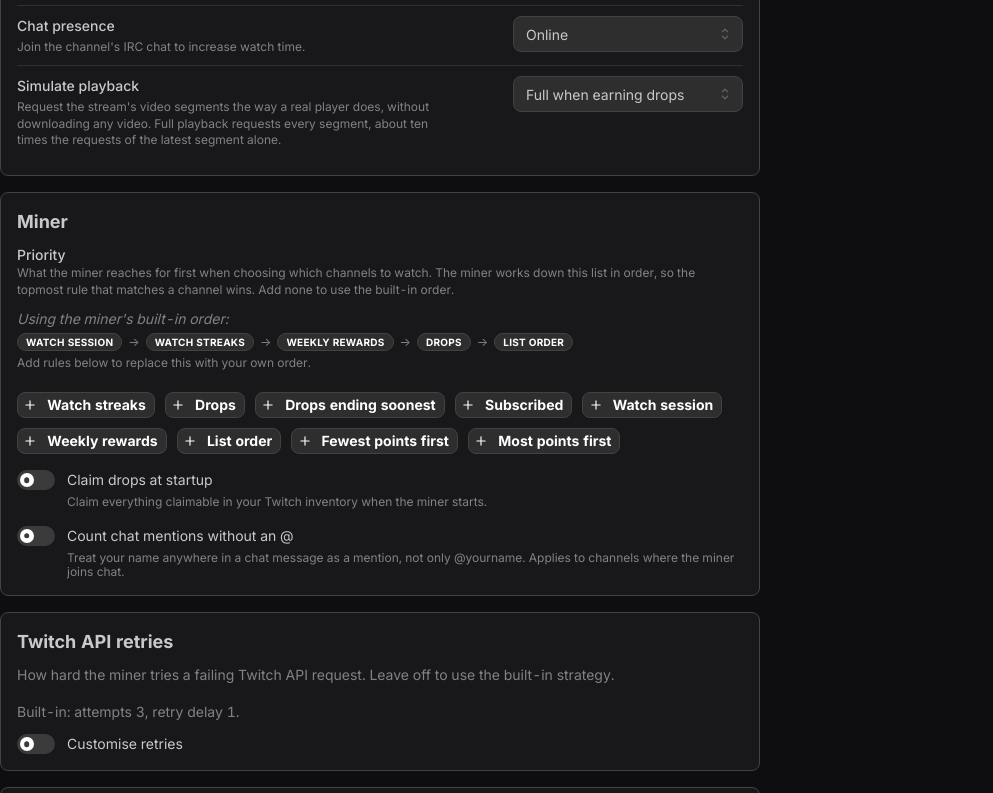
Scenario: the built-in order disappears once a rule is chosen
(page scrolled)
Click the button "Drops" at (205,405), box [165,392,245,418]
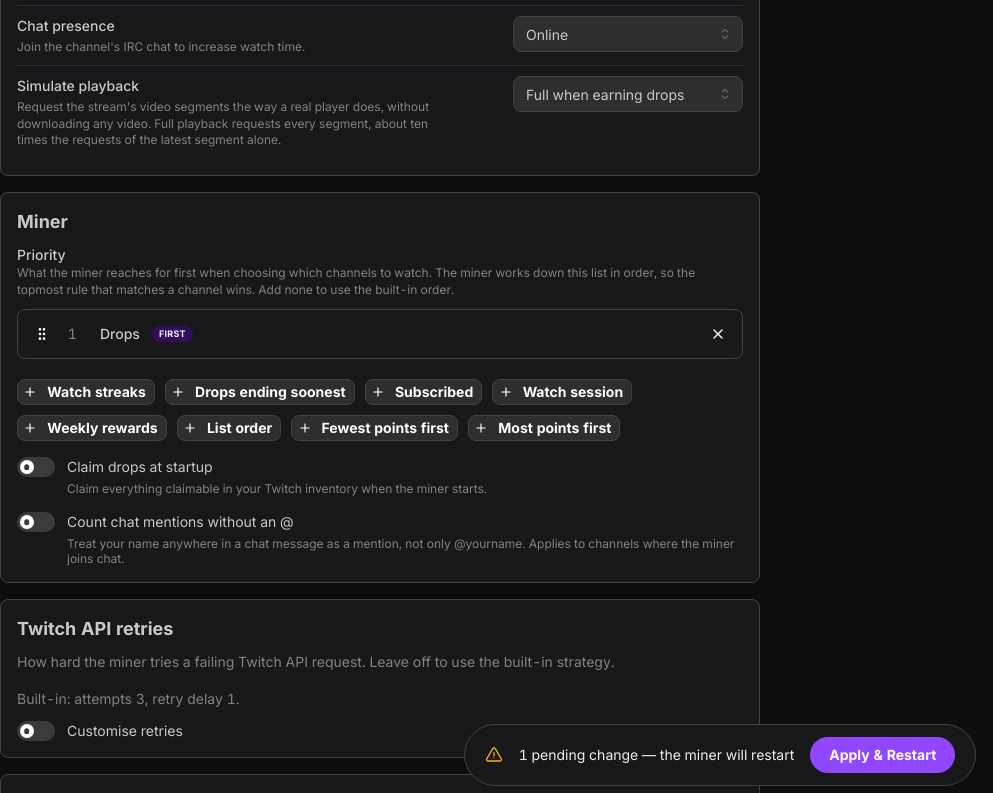
Now the element with test id "priority-empty" is gone
